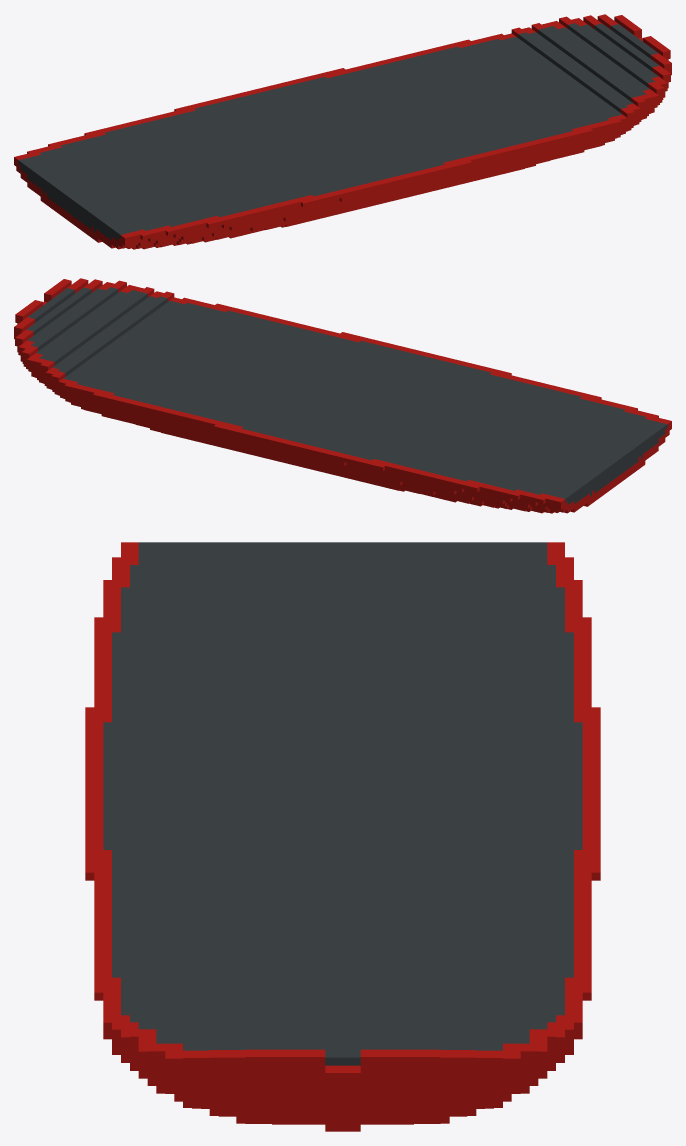
Rendered from air_ambulance_belly.glb.
The picture shows the model from 3 angles, top to bottom: view 1: azimuth 30°, elevation 25°; view 2: azimuth 150°, elevation 25°; view 3: azimuth 270°, elevation 25°; orthographic projection. The views are drawn at different scales.
Visible parts, largest first — view 1: body:compound; view 2: body:compound; view 3: body:compound.
Boxes of the visible parts, x1=… form: body:compound: x1=14, y1=14, x2=671, y2=249; body:compound: x1=14, y1=278, x2=671, y2=513; body:compound: x1=85, y1=542, x2=600, y2=1131.
Bounding box in the file's own units: 4.69 × 0.5312 × 1.81.
